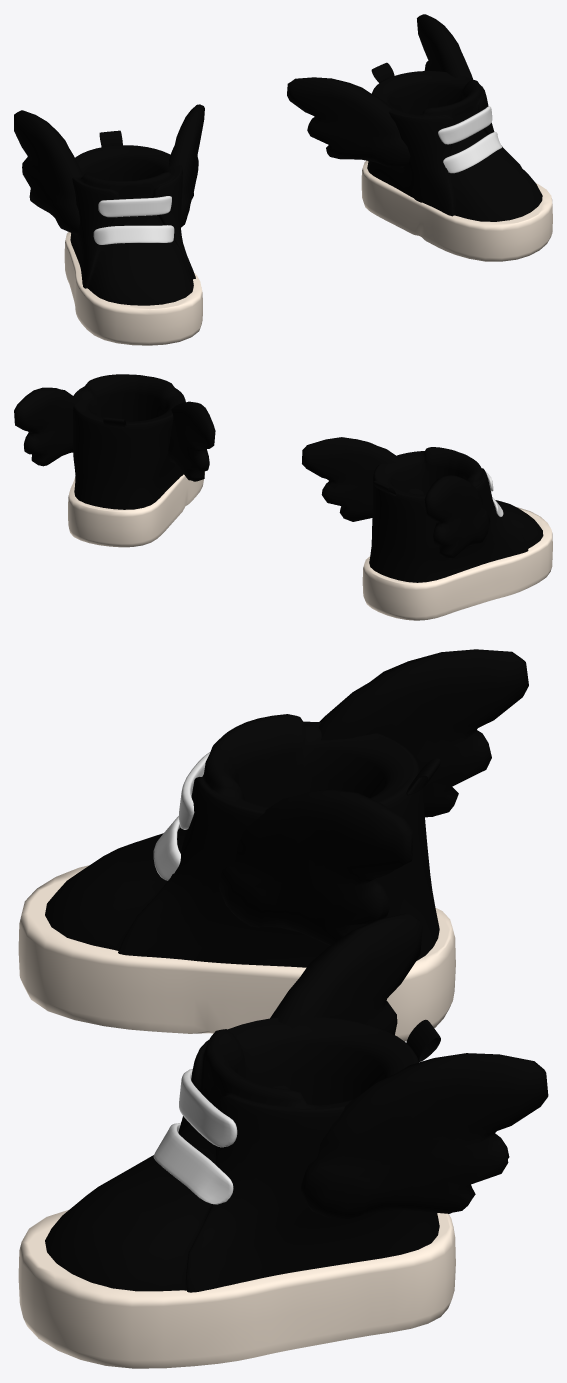
Rendered from BatWingShoes.fbx.
3 views of the same model, one above another, from view 1: azimuth 30°, elevation 25°; view 2: azimuth 150°, elevation 25°; view 3: azimuth 270°, elevation 25° (orthographic). The views are drawn at different scales.
Visible parts, largest first — view 1: Chaussure_Gauche.001, Chaussure_Droite.001, Wings.002, Sole_Gauche, Wings.001, Sole_Droite, Straps_Droite, Straps_Gauche; view 2: Chaussure_Gauche.001, Chaussure_Droite.001, Wings.001, Sole_Droite, Wings.002, Sole_Gauche; view 3: Chaussure_Gauche.001, Chaussure_Droite.001, Wings.001, Wings.002, Sole_Gauche, Sole_Droite, Straps_Gauche, Straps_Droite.
Part boxes in pixels (box(x1,y1,x2,y2)): Chaussure_Gauche.001: box(367, 62, 542, 221); Chaussure_Droite.001: box(70, 130, 195, 305); Wings.002: box(287, 14, 473, 167); Sole_Gauche: box(361, 160, 552, 261); Wings.001: box(14, 104, 204, 234); Sole_Droite: box(64, 232, 202, 345); Straps_Droite: box(93, 196, 174, 244); Straps_Gauche: box(438, 106, 502, 173); Chaussure_Gauche.001: box(73, 374, 185, 509); Chaussure_Droite.001: box(369, 447, 543, 582); Wings.001: box(302, 437, 490, 559); Sole_Droite: box(362, 507, 552, 620); Wings.002: box(14, 387, 215, 481); Sole_Gauche: box(68, 471, 204, 547); Chaussure_Gauche.001: box(45, 1017, 440, 1292); Chaussure_Droite.001: box(45, 714, 440, 967); Wings.001: box(219, 649, 528, 945); Wings.002: box(270, 913, 548, 1219); Sole_Gauche: box(18, 1210, 455, 1368); Sole_Droite: box(18, 865, 455, 1041); Straps_Gauche: box(153, 1069, 237, 1204); Straps_Droite: box(153, 752, 210, 880).
Bounding box in the file's own units: 777 × 250 × 395.
